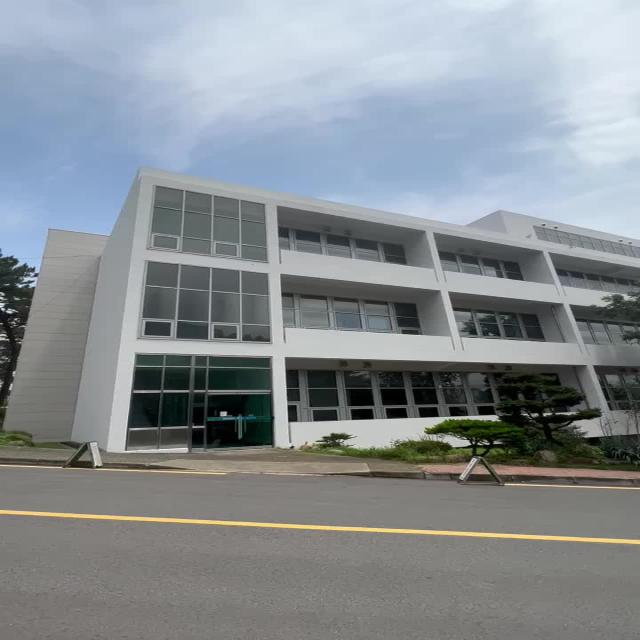building: (50, 171, 585, 436)
